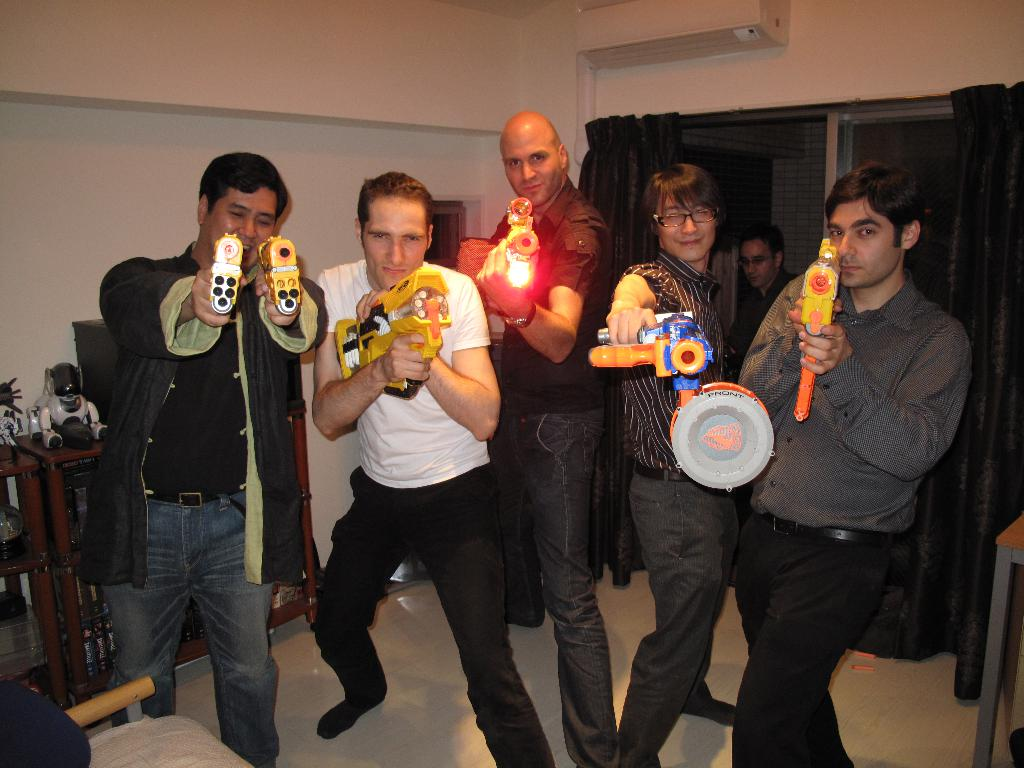Human-face: (827, 196, 904, 286), (212, 188, 280, 266), (365, 198, 424, 287), (500, 132, 563, 208), (662, 193, 718, 261), (744, 244, 778, 284)
